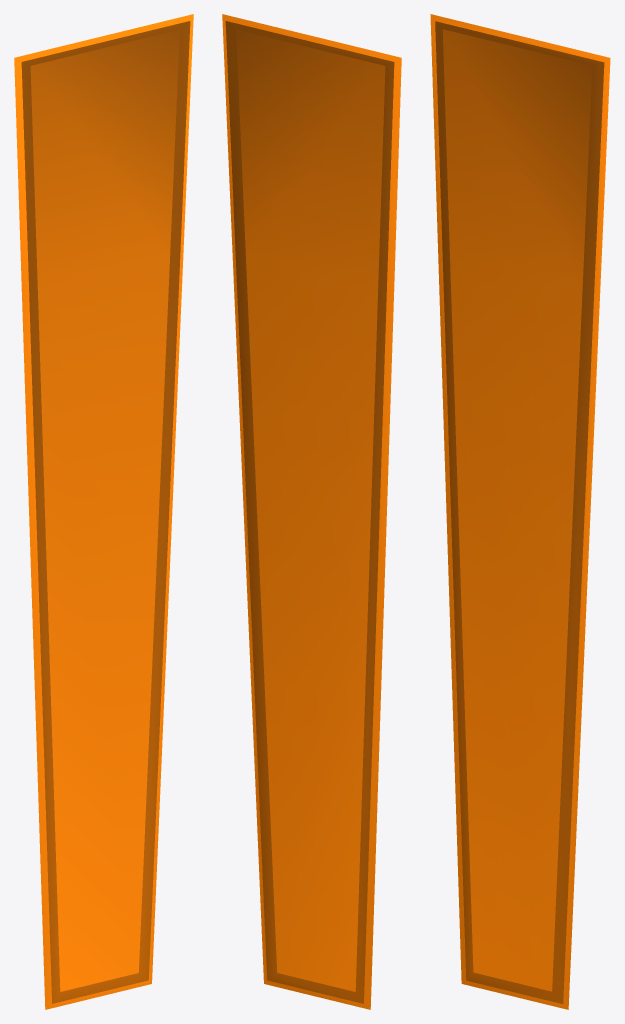
Rendered from bronze_blade (4).glb.
3 views of the same model, side by side, from view 1: azimuth 30°, elevation 25°; view 2: azimuth 150°, elevation 25°; view 3: azimuth 330°, elevation 25° (orthographic).
Parts seen in each view (by area): view 1: bronze_blade_steel.039; view 2: bronze_blade_steel.039; view 3: bronze_blade_steel.039.
Part boxes in pixels (x1,y1,x2,y2): bronze_blade_steel.039: (14, 14, 193, 1009); bronze_blade_steel.039: (222, 14, 401, 1009); bronze_blade_steel.039: (430, 14, 610, 1009).
Bounding box in the file's own units: 2.19 × 11.21 × 0.0882.
1 material, 1 textured.
